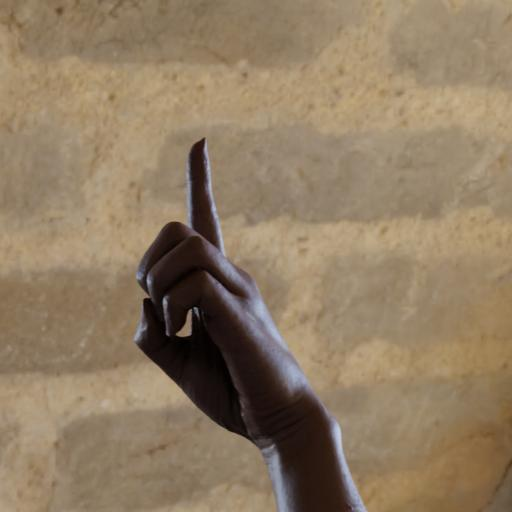D: (122, 123, 364, 512)
